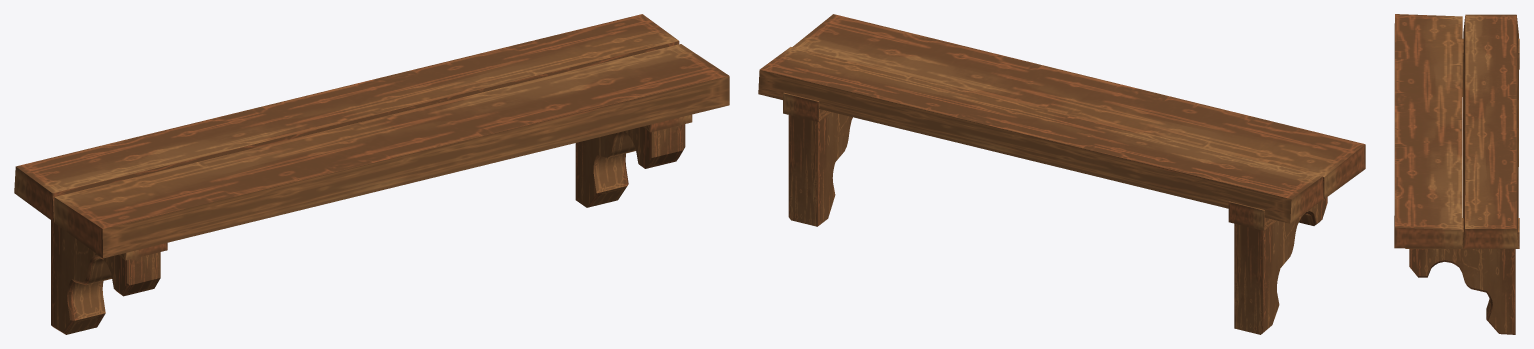
Rendered from shelf_simple.glb.
The picture shows the model from 3 angles, left to right: view 1: azimuth 30°, elevation 25°; view 2: azimuth 150°, elevation 25°; view 3: azimuth 270°, elevation 25°; orthographic projection. The views are drawn at different scales.
Parts seen in each view (by area): view 1: Shelf_Simple; view 2: Shelf_Simple; view 3: Shelf_Simple.
Boxes of the visible parts, x1=… form: Shelf_Simple: x1=14, y1=14, x2=729, y2=334; Shelf_Simple: x1=758, y1=14, x2=1365, y2=334; Shelf_Simple: x1=1394, y1=14, x2=1519, y2=334.
Bounding box in the file's own units: 1.18 × 0.3087 × 0.2923.
Materials: 1 (1 with a texture image).
